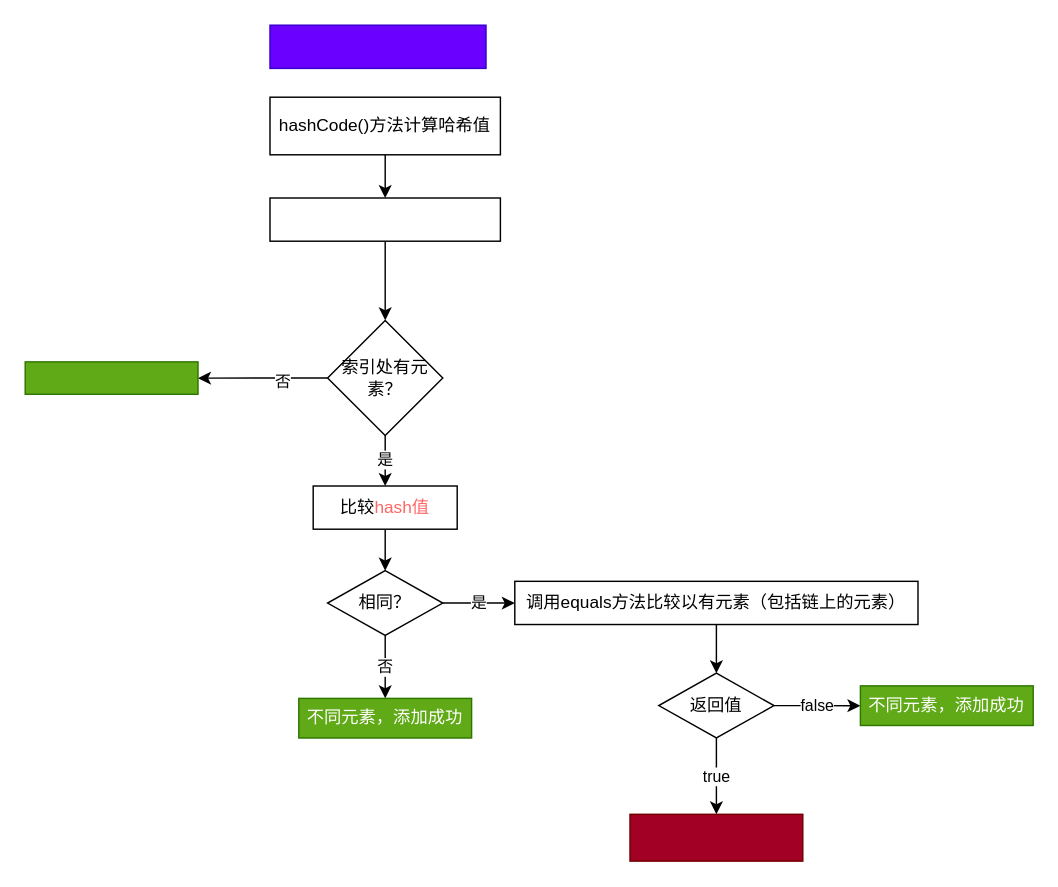
Some shapes in this 1058 by 887 pixel diagram are drawn without their labels. Here are the shapes that lost their labels. From the top down, the box of each, then its label:
(269, 24, 486, 68): HashSet添加元素过程
(269, 197, 500, 241): 计算在哈希表中的索引
(24, 360, 198, 394): 添加成功
(629, 813, 803, 861): 相同元素，添加失败
